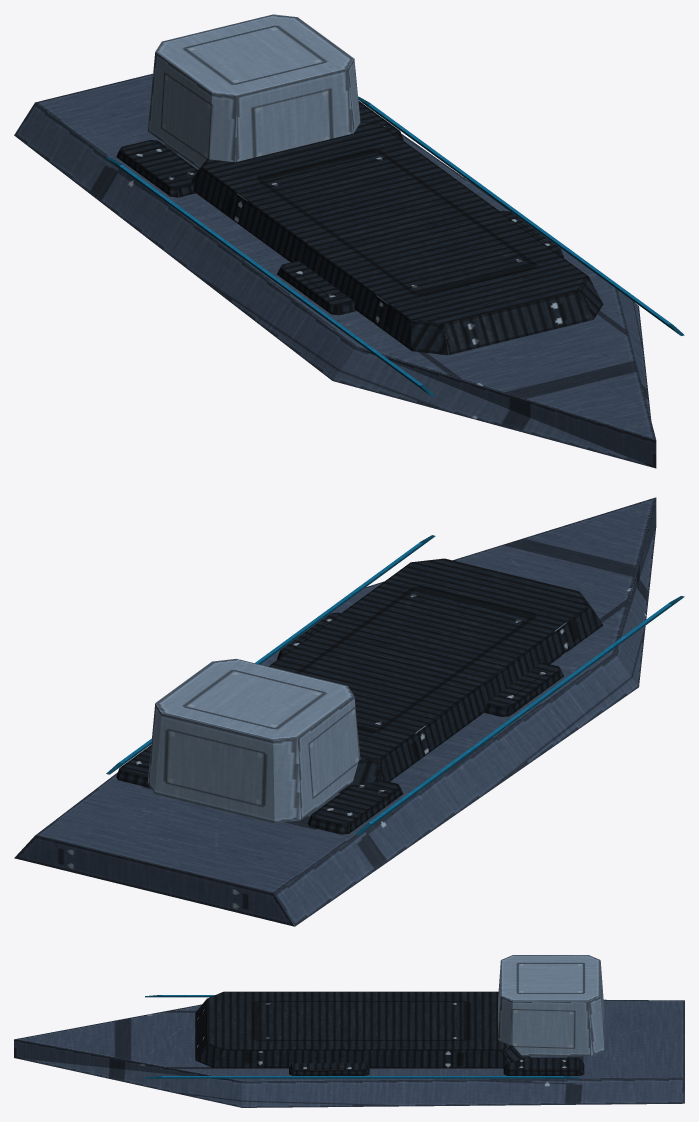
Rendered from unit-transport_ship.fbx.
3 renders of one model, top to bottom at view 1: azimuth 30°, elevation 25°; view 2: azimuth 150°, elevation 25°; view 3: azimuth 270°, elevation 25°, orthographic. The views are drawn at different scales.
Visible parts, largest first — view 1: unit-transport_ship; view 2: unit-transport_ship; view 3: unit-transport_ship.
Part boxes in pixels (box(x1,y1,x2,y2)): unit-transport_ship: box(14, 14, 684, 468); unit-transport_ship: box(14, 497, 684, 926); unit-transport_ship: box(14, 955, 684, 1107).
Bounding box in the file's own units: 806 × 300 × 2288.
Materials: 1 (1 with a texture image).
